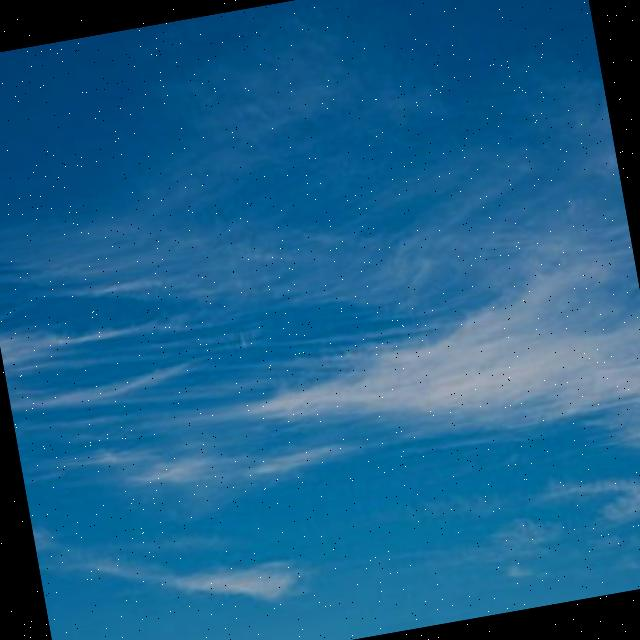Ci: (1, 2, 640, 582)
